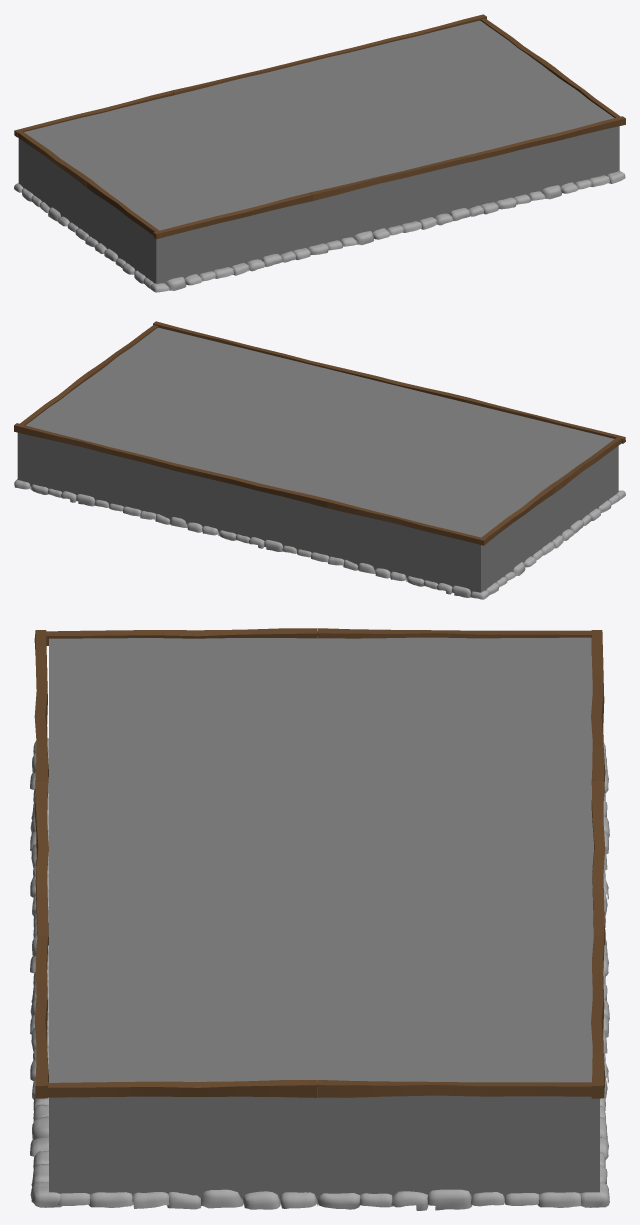
The model's file is SM_platform.fbx.
3 renders of one model, top to bottom at view 1: azimuth 30°, elevation 25°; view 2: azimuth 150°, elevation 25°; view 3: azimuth 270°, elevation 25°, orthographic. The views are drawn at different scales.
Parts seen in each view (by area): view 1: Object3270856; view 2: Object3270856; view 3: Object3270856.
Part boxes in pixels (x1,y1,x2,y2): Object3270856: (14,14,625,292); Object3270856: (14,321,625,599); Object3270856: (30,628,609,1210).
Bounding box in the file's own units: 916 × 115 × 486.
